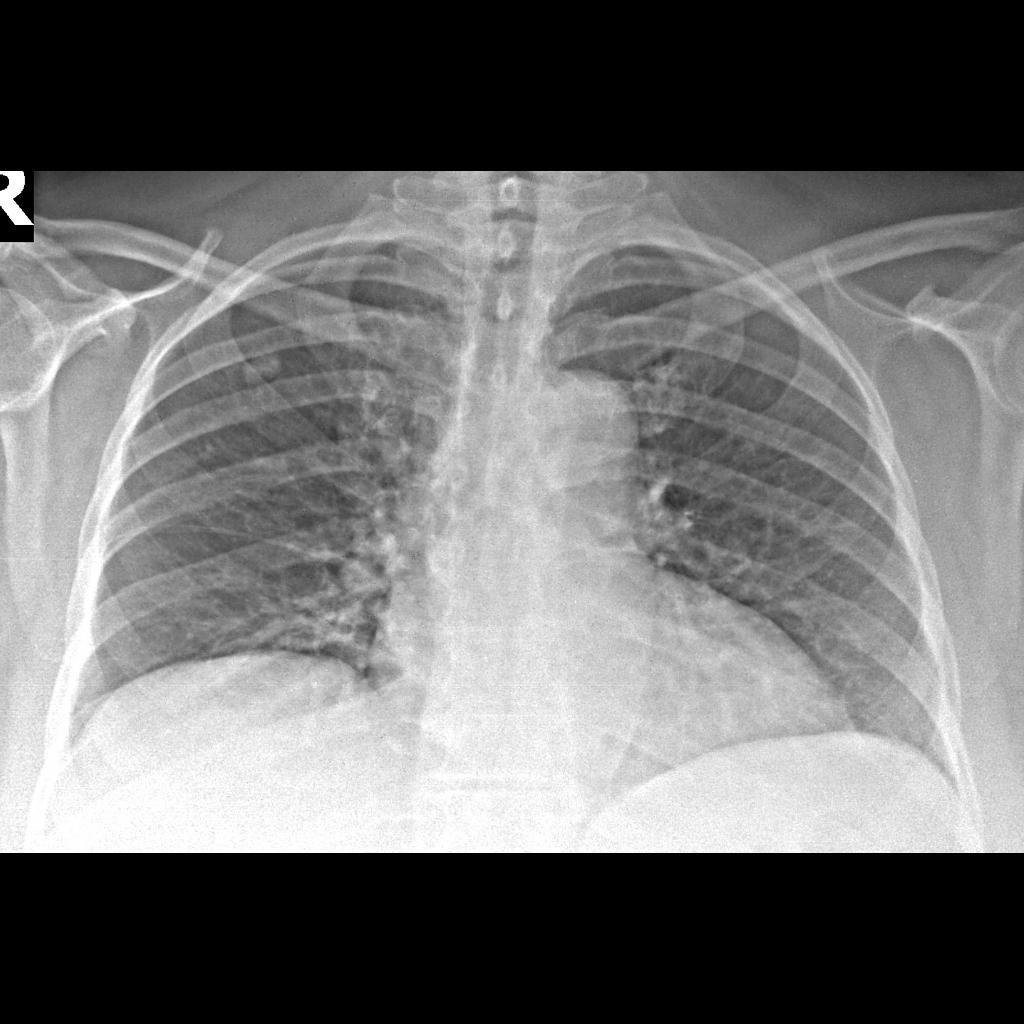Nodule: (243, 349, 283, 391)
